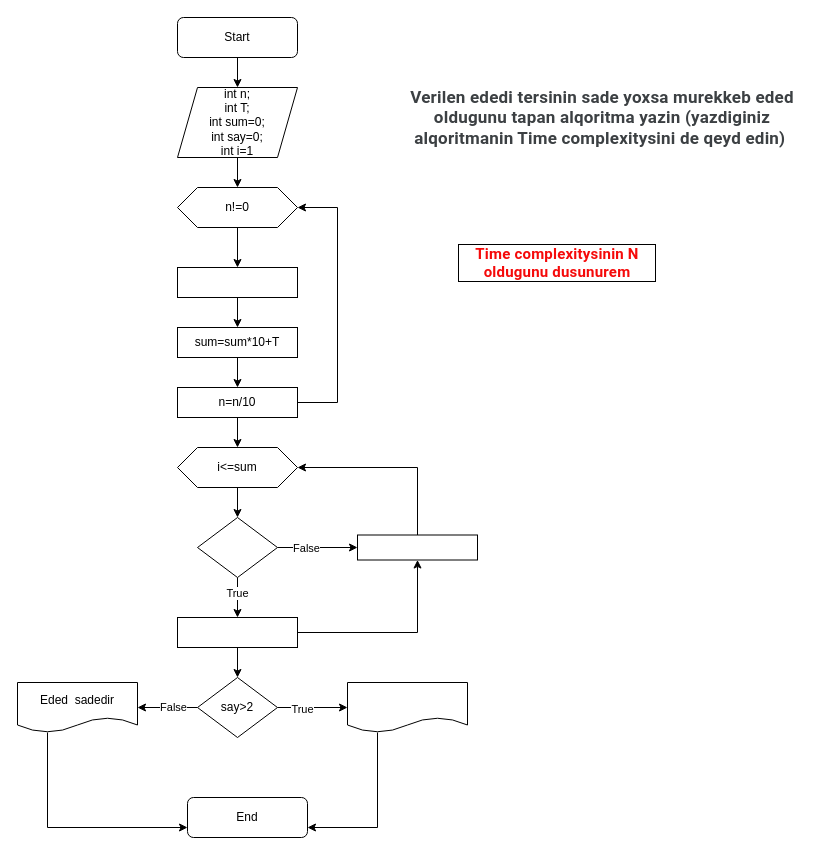
Some shapes in this 815 by 855 pixel diagram are drawn without their labels. Here are the shapes that lost their labels. From the top down, the centre of each, then its label:
At pixel 237 282: "T=n%10".
At pixel 237 547: "sum%i==0".
At pixel 417 547: "i++".
At pixel 237 632: "say++".
At pixel 407 707: "Eded murekkebdir".
